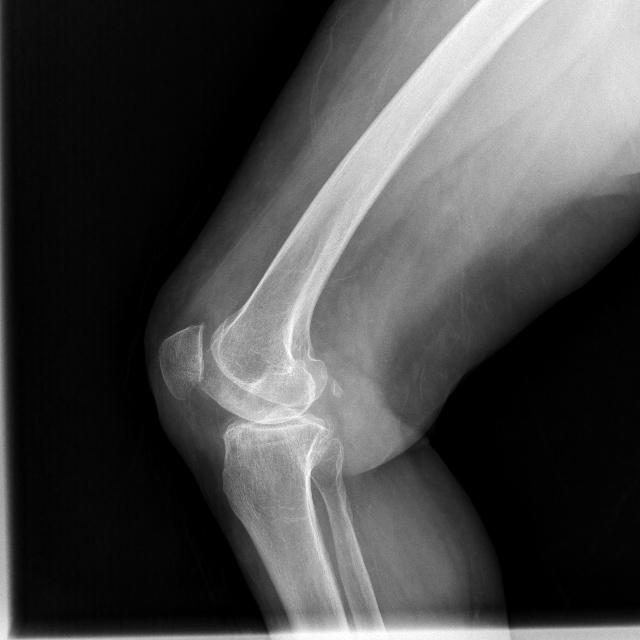Knee: (154, 318, 333, 487)
